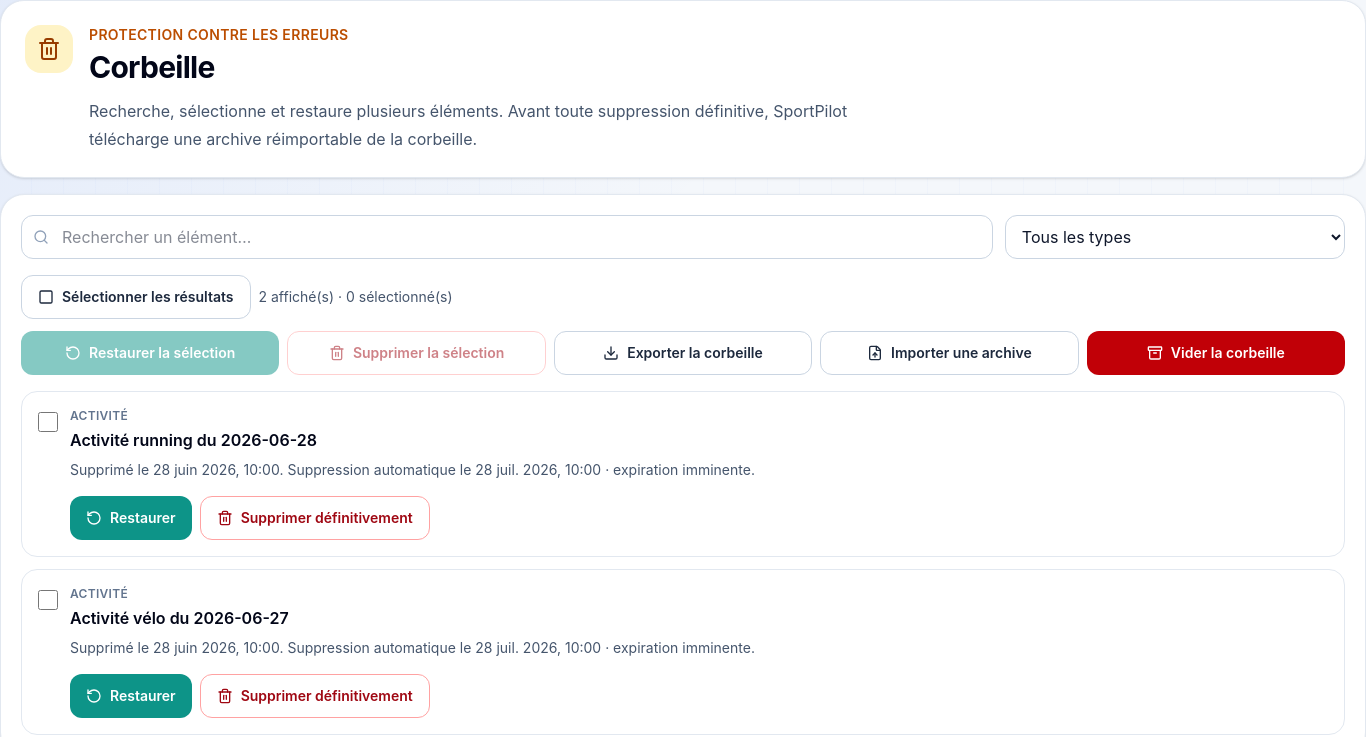
Test: TrashPage › restaure toute la sélection et garde le résultat localement
Click the button "Sélectionner les résultats": click(136, 297) [21, 275, 250, 319]
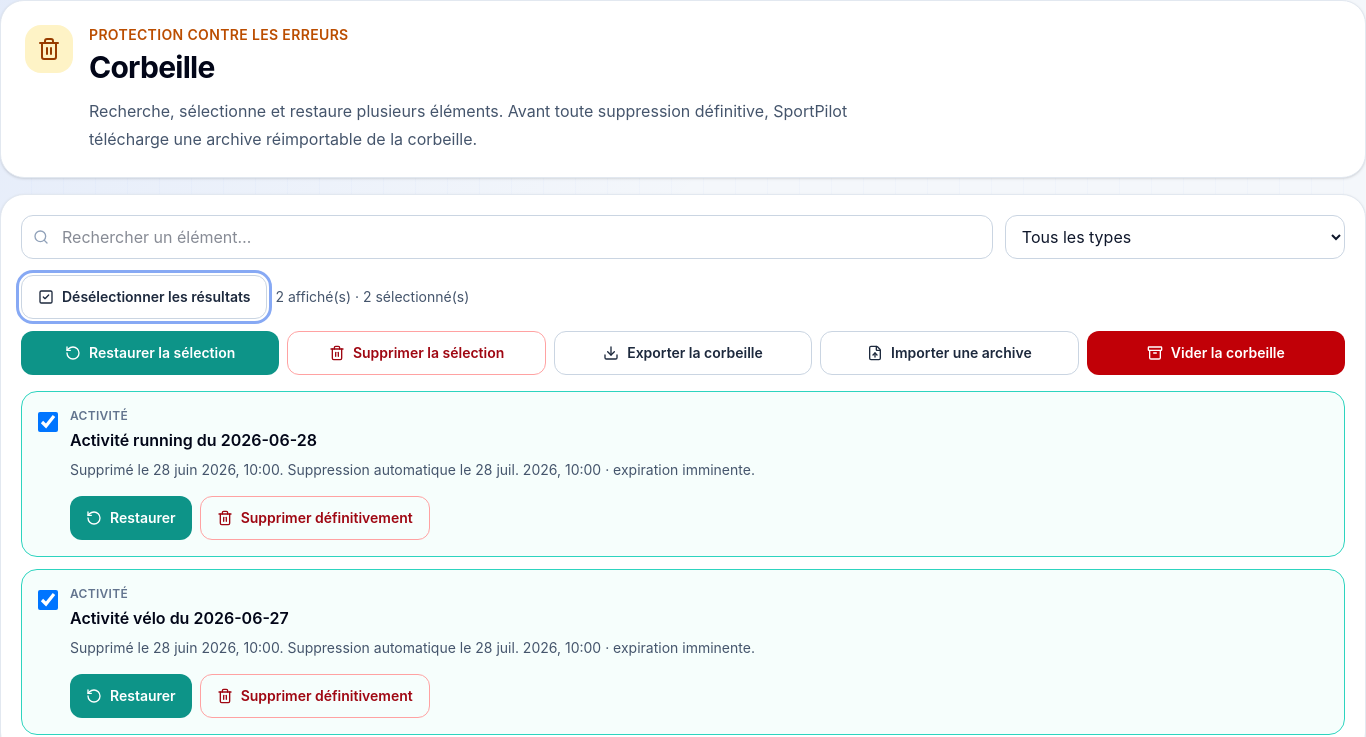
Click the button "Restaurer la sélection": click(150, 353) [21, 331, 279, 375]
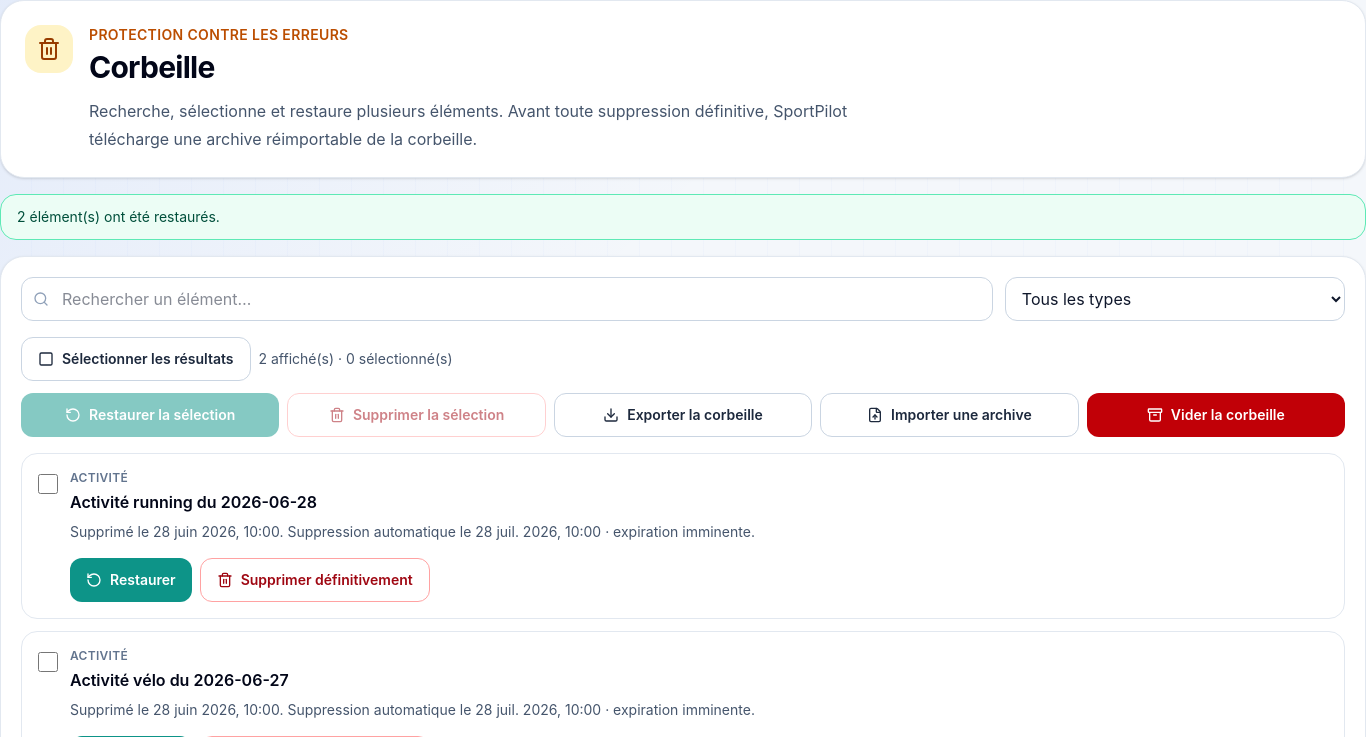
Now the text "2 élément(s) ont été restaurés." is shown, box [0, 194, 1365, 240]
